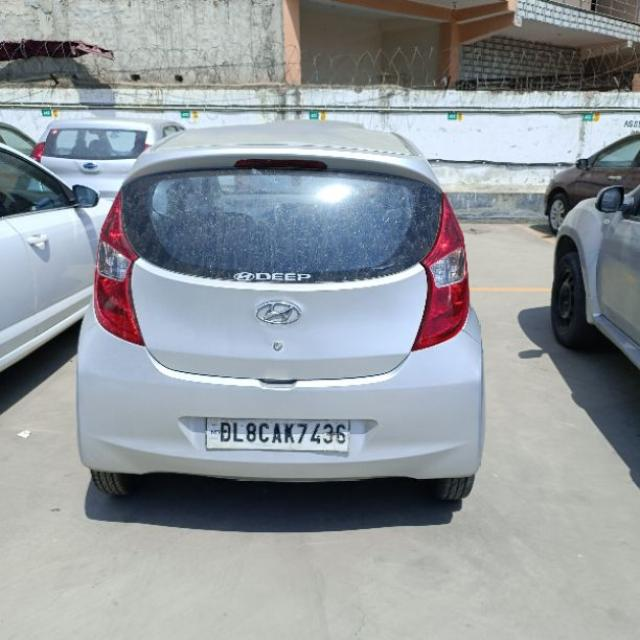license_plate: (203, 416, 350, 453)
